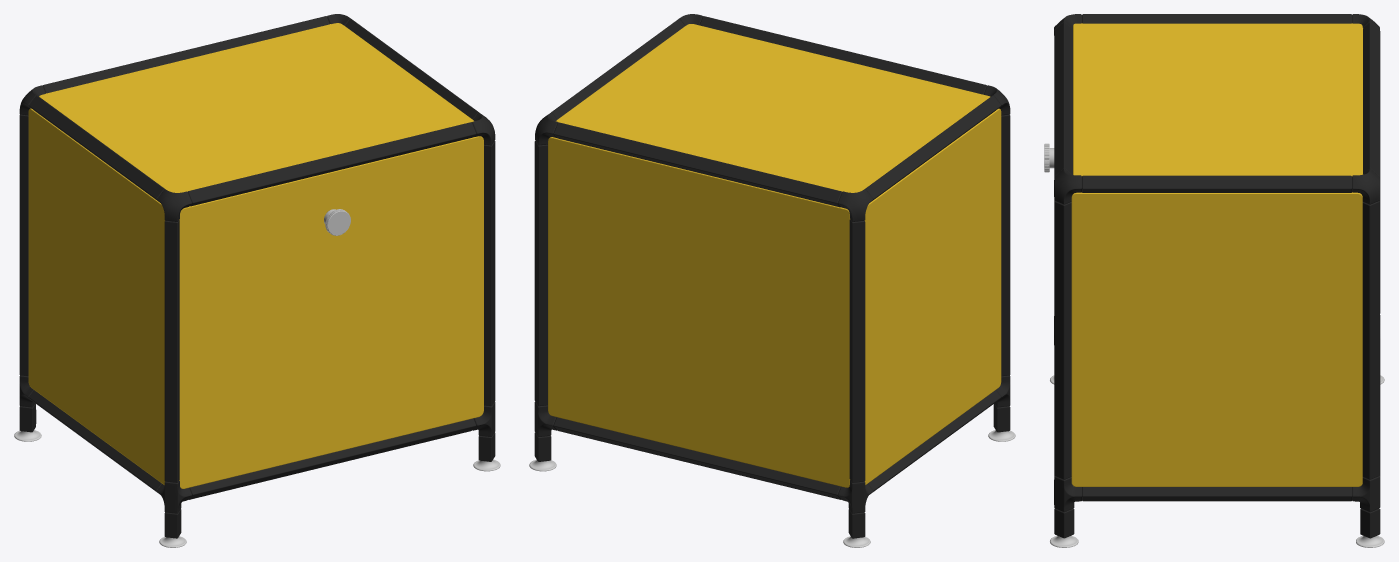
The picture shows the model from 3 angles, left to right: view 1: azimuth 30°, elevation 25°; view 2: azimuth 150°, elevation 25°; view 3: azimuth 270°, elevation 25°; orthographic projection. The views are drawn at different scales.
Visible parts, largest first — view 1: 479x374x420; view 2: 479x374x420; view 3: 479x374x420.
Part boxes in pixels (bbox=[...]): 479x374x420: bbox=[14, 14, 500, 547]; 479x374x420: bbox=[529, 14, 1015, 547]; 479x374x420: bbox=[1044, 14, 1384, 547].
Size of the model in its own units: 0.5689 by 0.5592 by 0.4708.
